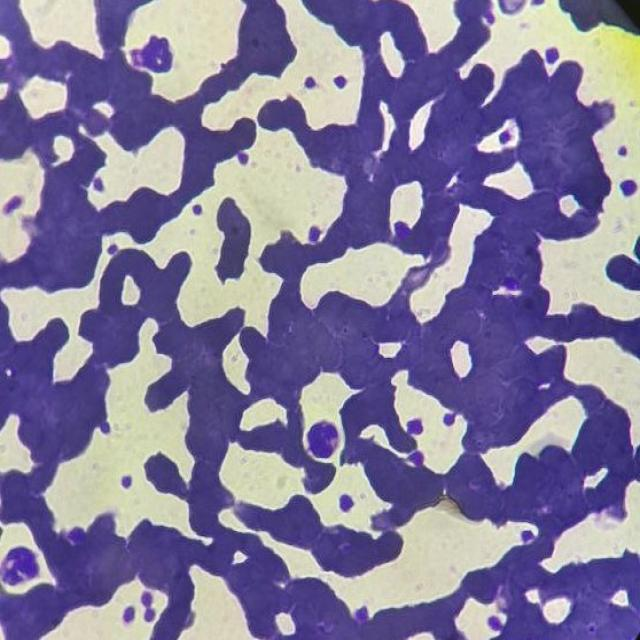Neutrofilo: (128, 34, 179, 77), (0, 546, 43, 591), (303, 418, 344, 465)
